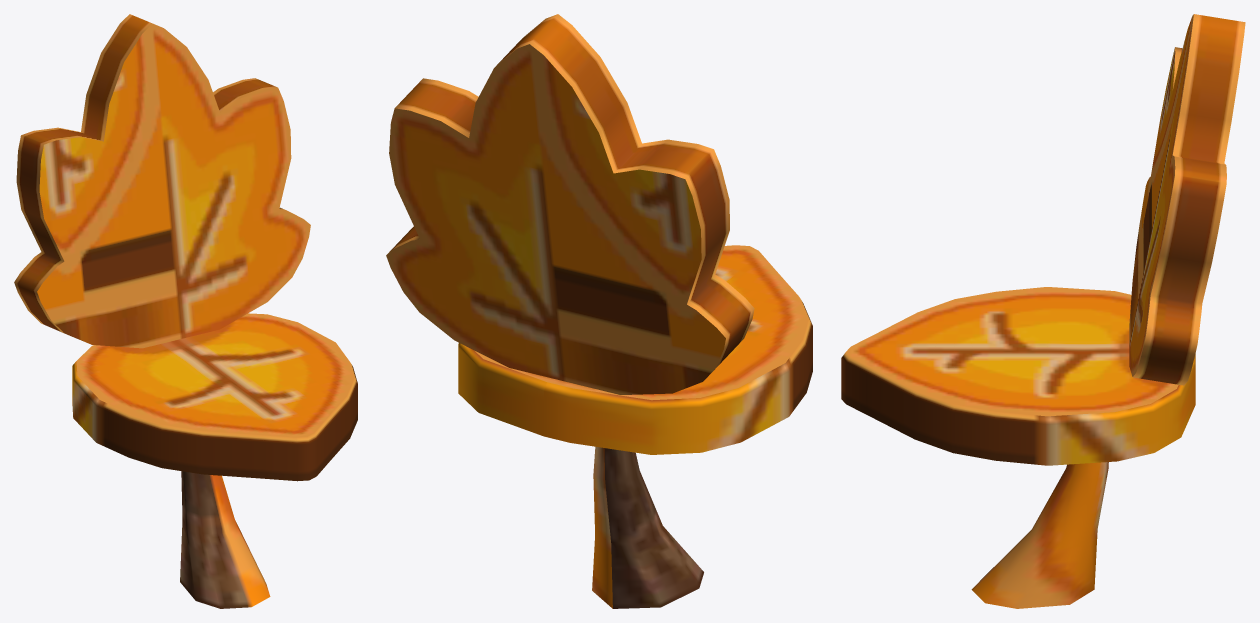
File: int_mon_11.dae
The picture shows the model from 3 angles, left to right: view 1: azimuth 30°, elevation 25°; view 2: azimuth 150°, elevation 25°; view 3: azimuth 270°, elevation 25°; orthographic projection. The views are drawn at different scales.
Visible parts, largest first — view 1: int_mon_11; view 2: int_mon_11; view 3: int_mon_11.
Boxes of the visible parts, x1,y1,x2,y2 form: int_mon_11: [14, 14, 357, 608]; int_mon_11: [386, 14, 812, 608]; int_mon_11: [841, 14, 1245, 608].
Bounding box in the file's own units: 21.68 × 38.7 × 24.63.
Materials: 1 (1 with a texture image).
